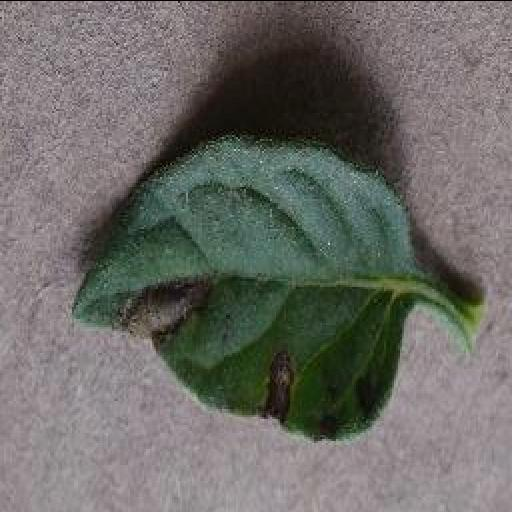disease_tomato: (69, 126, 415, 438)
